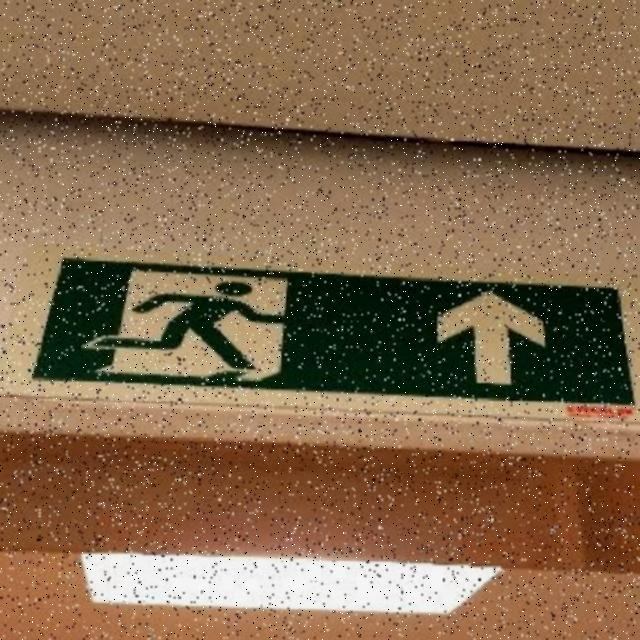emergency_exit: (28, 255, 638, 420)
